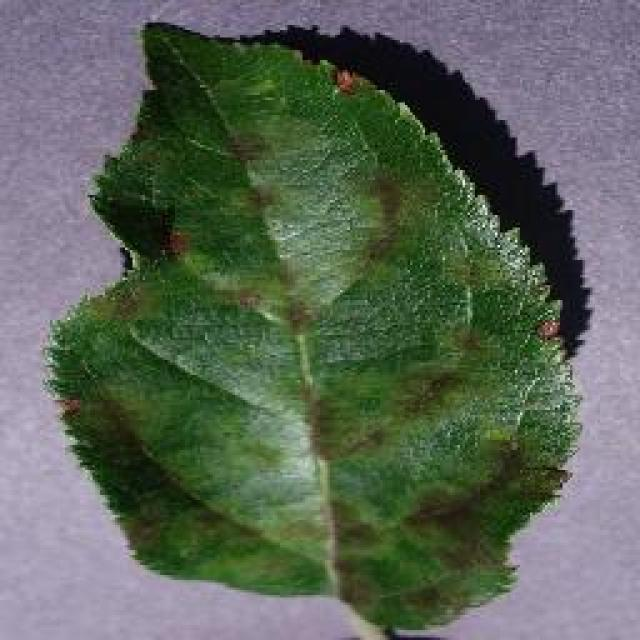apple scab disease: (42, 18, 588, 638)
